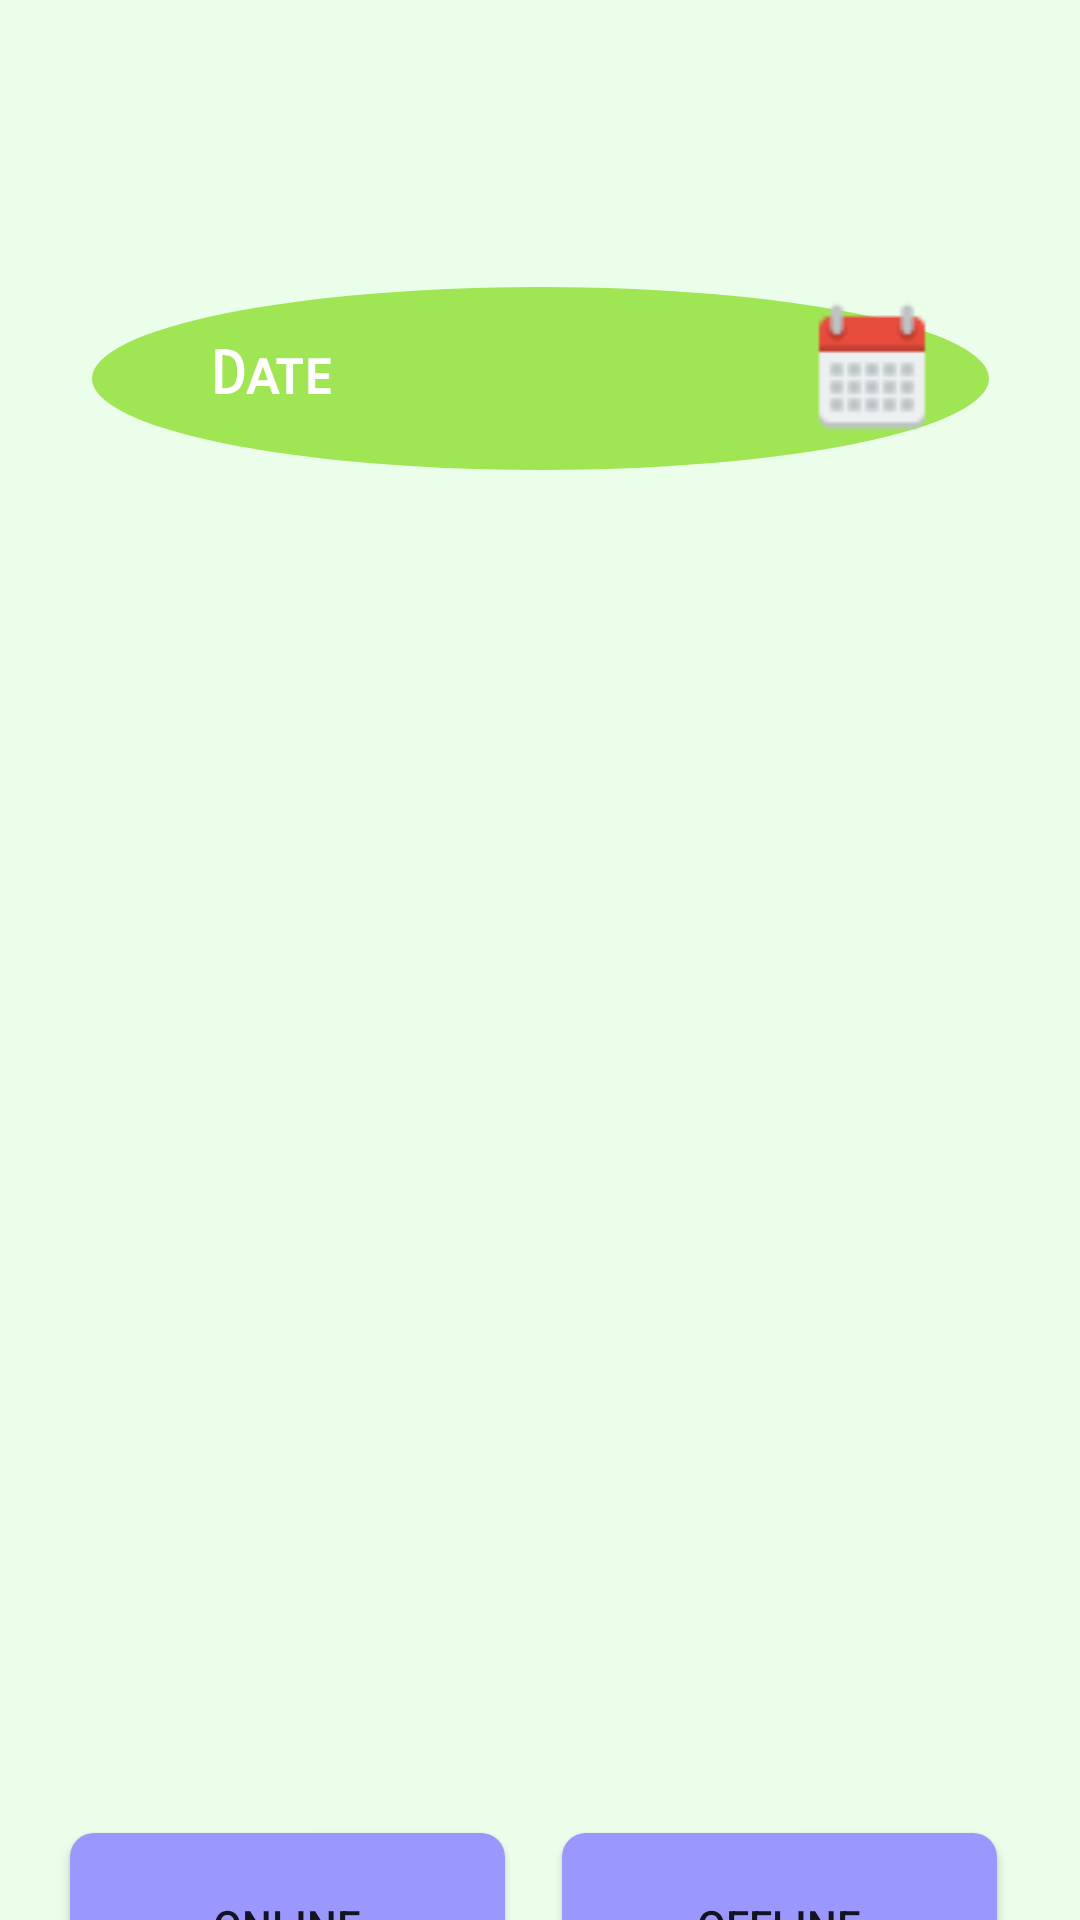

Point at icon controls on the screen. Image size 1080px x 1920px, points as [x,y].
cal: [872,369]
